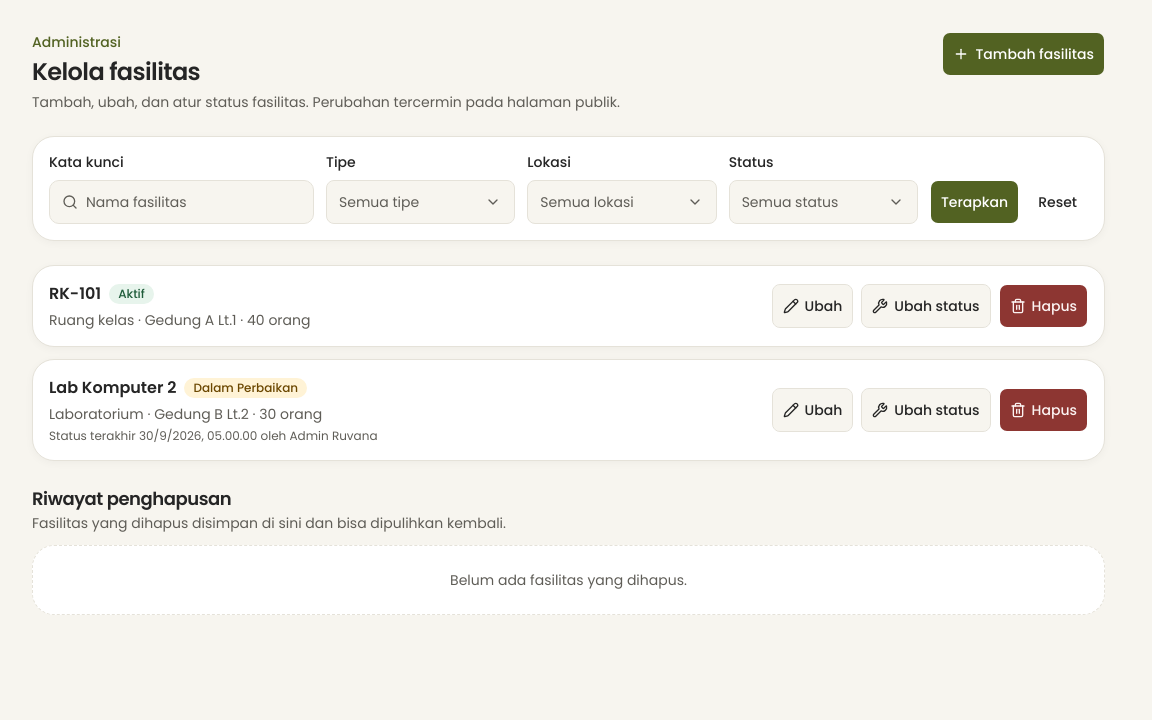
Scenario: AdminFacilities › menolak isian tidak valid di klien tanpa memanggil API
Click the button "Tambah fasilitas" at (1024, 54), box [942,32,1105,76]
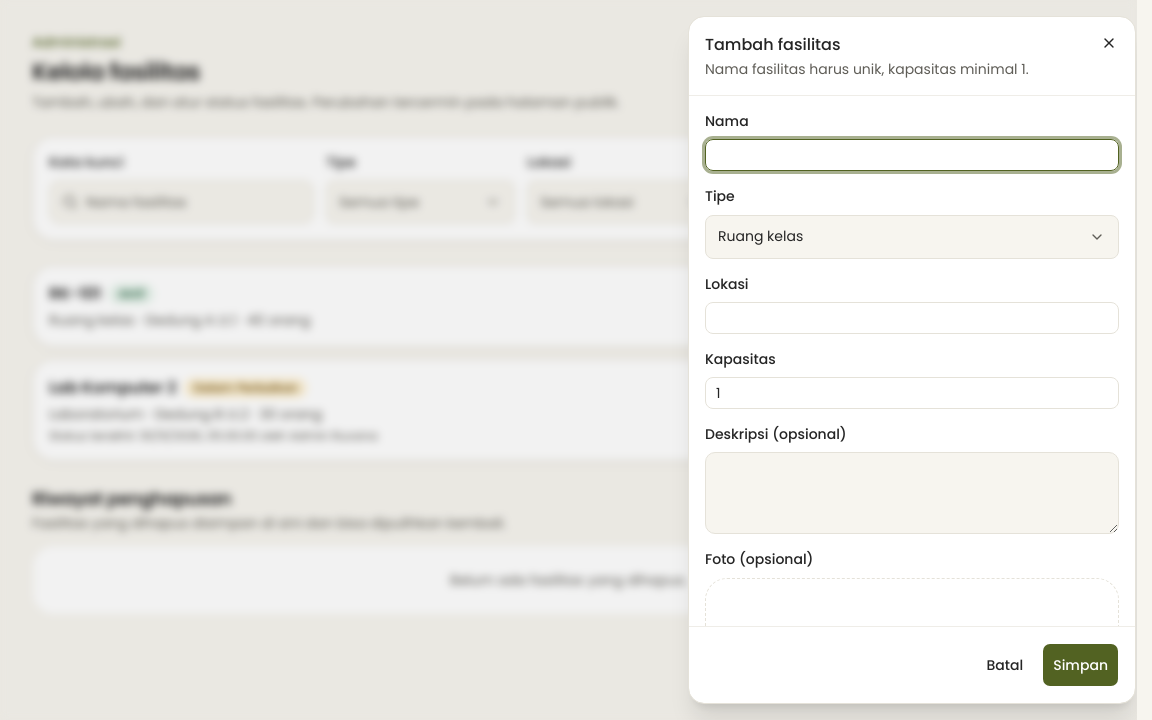
Clear the field labelled "Lokasi" at (912, 318), box [705,302,1119,334]
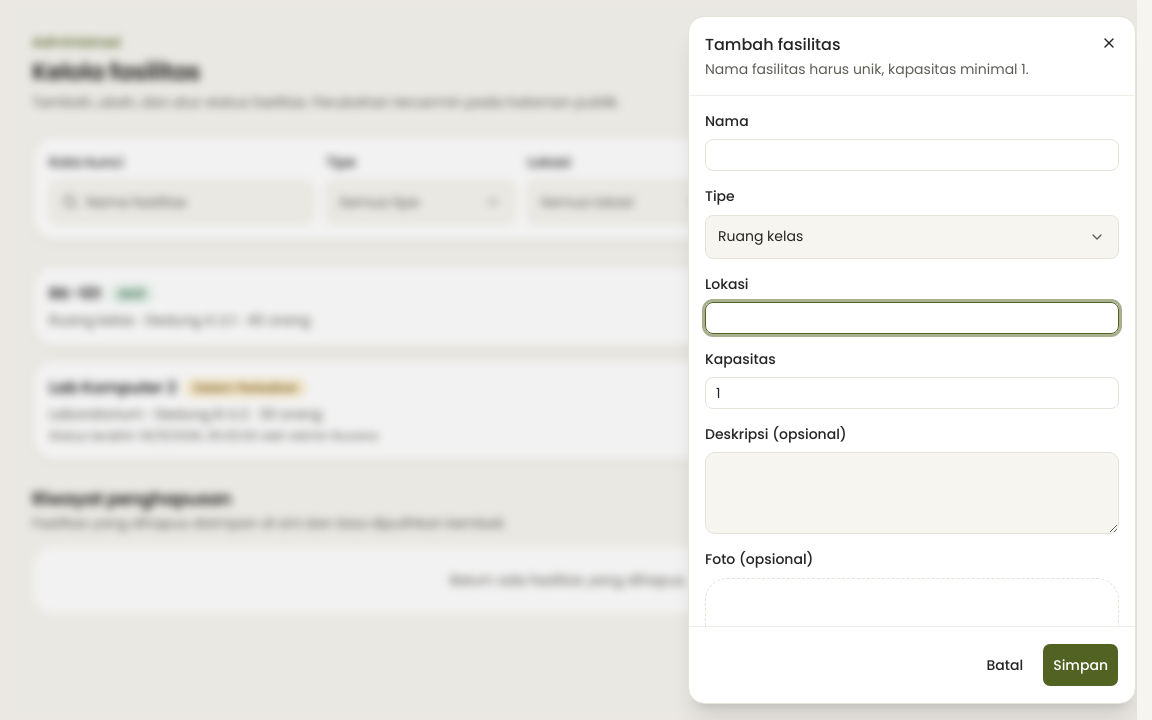
Clear the number field labelled "Kapasitas" at (912, 393), box [705,377,1119,409]
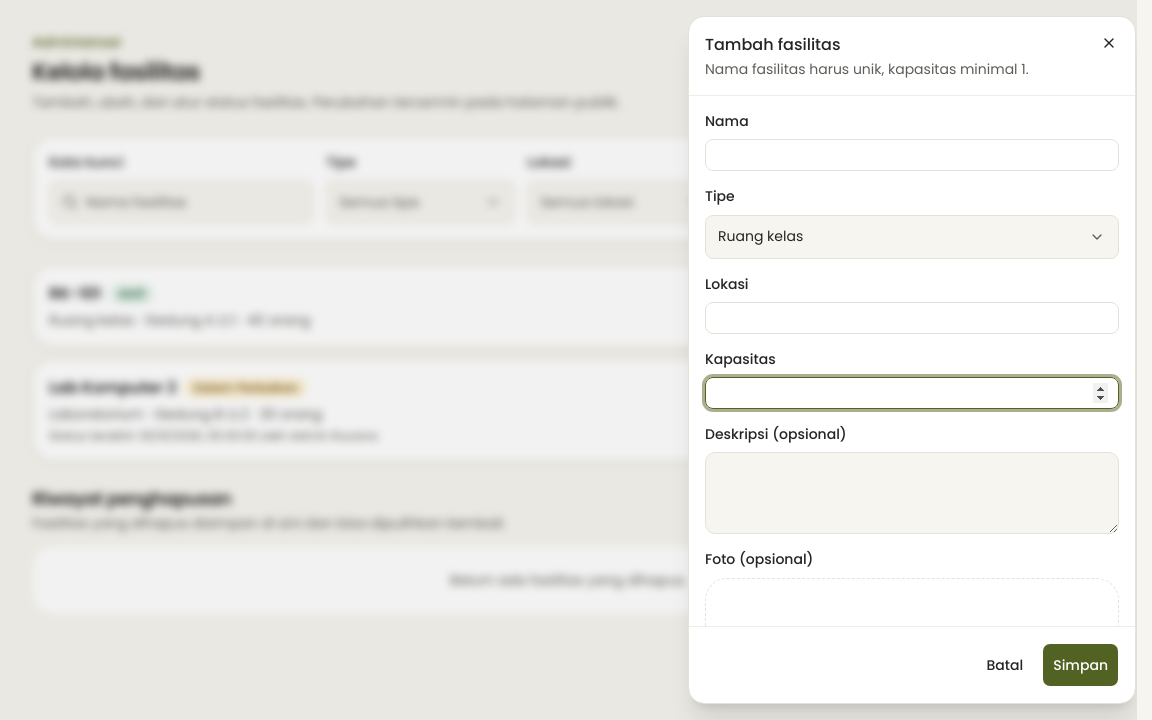
Click the button "Simpan" at (1081, 665), box [1042,643,1119,687]
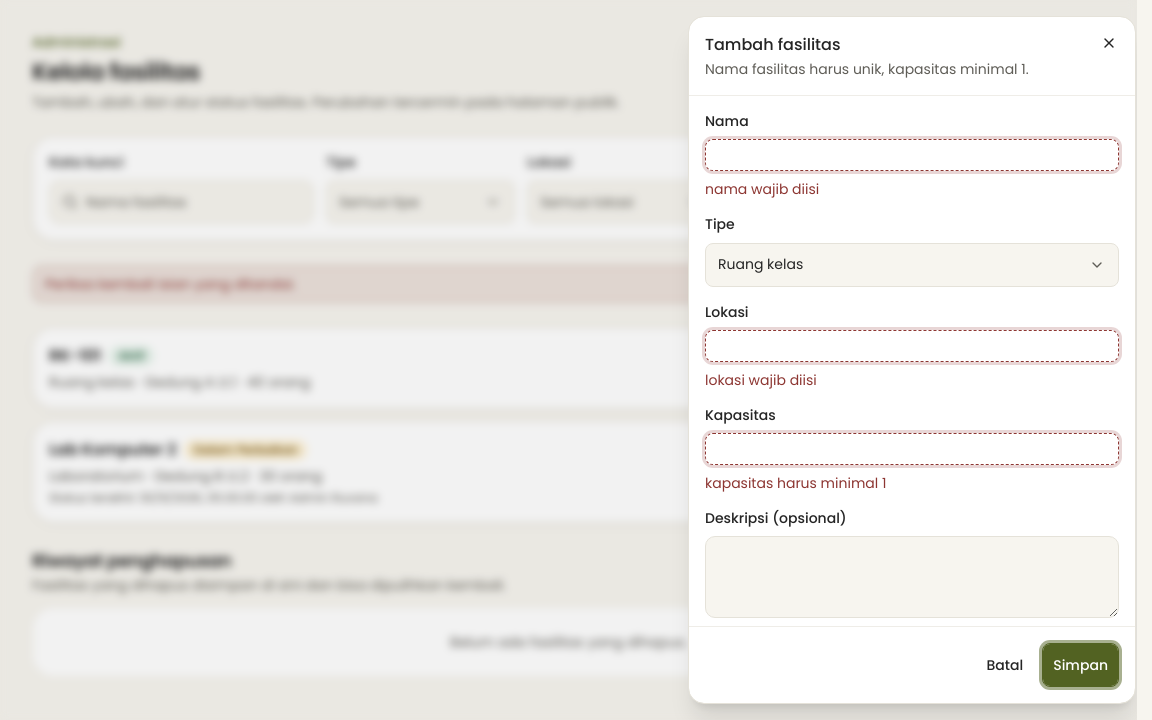
Check: the text "nama wajib diisi" is shown, box [705,179,819,199]
Check: the text "lokasi wajib diisi" is shown, box [705,370,817,390]
Check: the text "kapasitas harus minimal 1" is shown, box [705,473,886,493]
